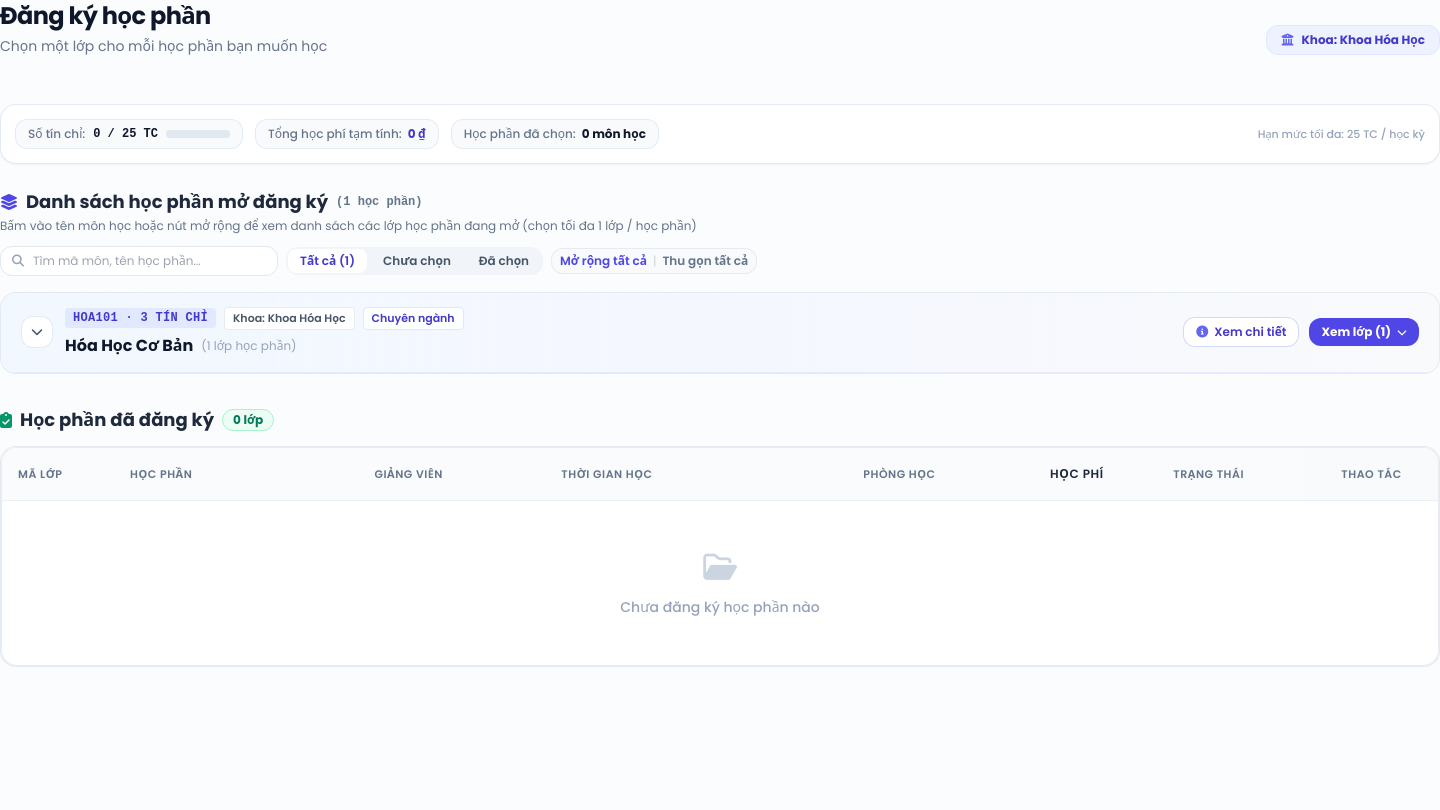
Test case: StudentCourseRegistration Course Details Modal & General Education Filtering & Compact UI › opens course details modal when clicking course detail button and displays teaching hours breakdown
The image size is (1440, 810).
# Click "Xem chi tiết"
Click the button "Xem chi tiết". click: (1241, 332)
box: [1183,317,1300,347]
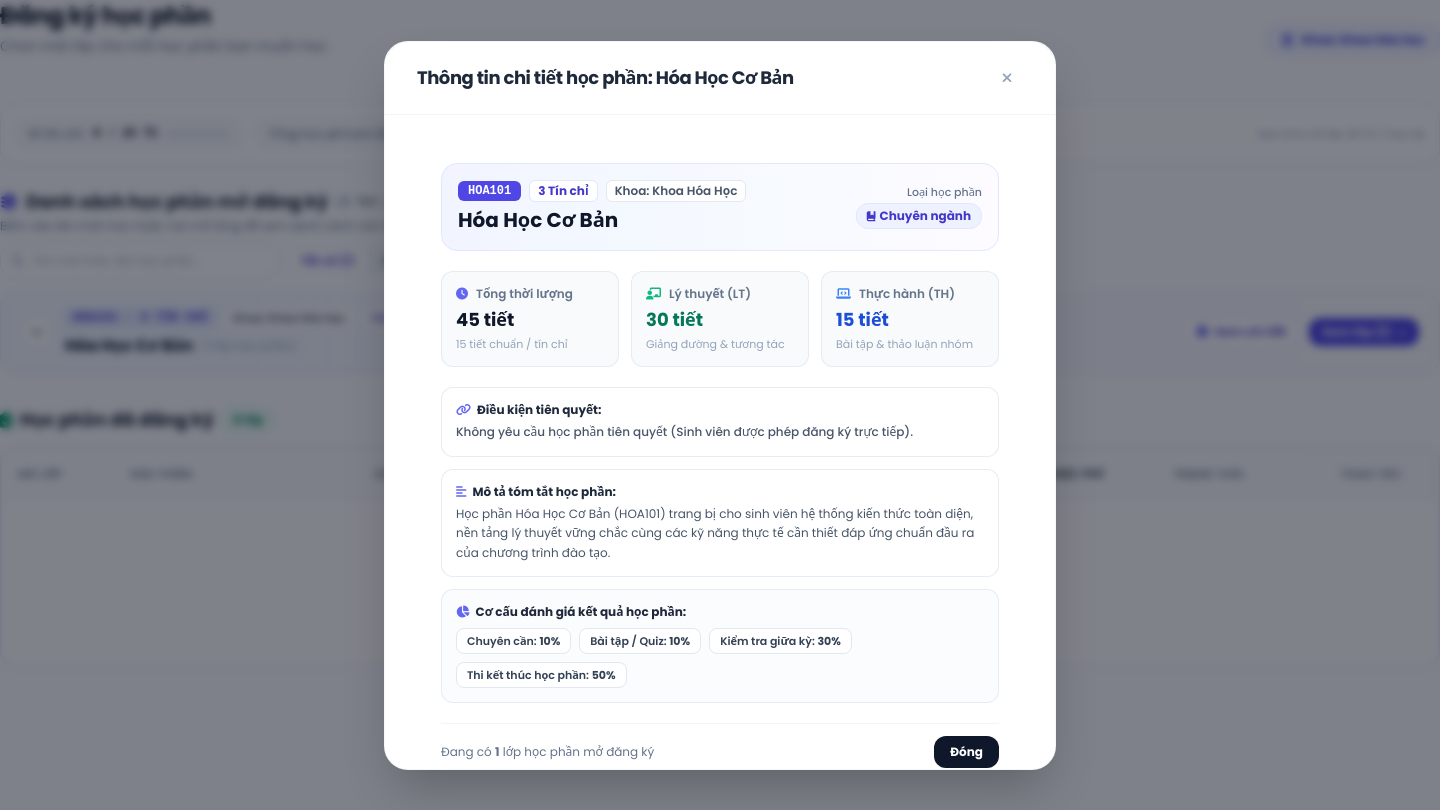
Expected: the heading "Thông tin chi tiết học phần: Hóa Học Cơ Bản" is shown, [417,64,794,92]
Expected: the text "45 tiết" is shown, [456,306,514,332]
Expected: the text "30 tiết" is shown, [646,306,703,332]
# Close modal
Click the button named "Đóng". click: (1007, 78)
box: [991,62,1023,94]
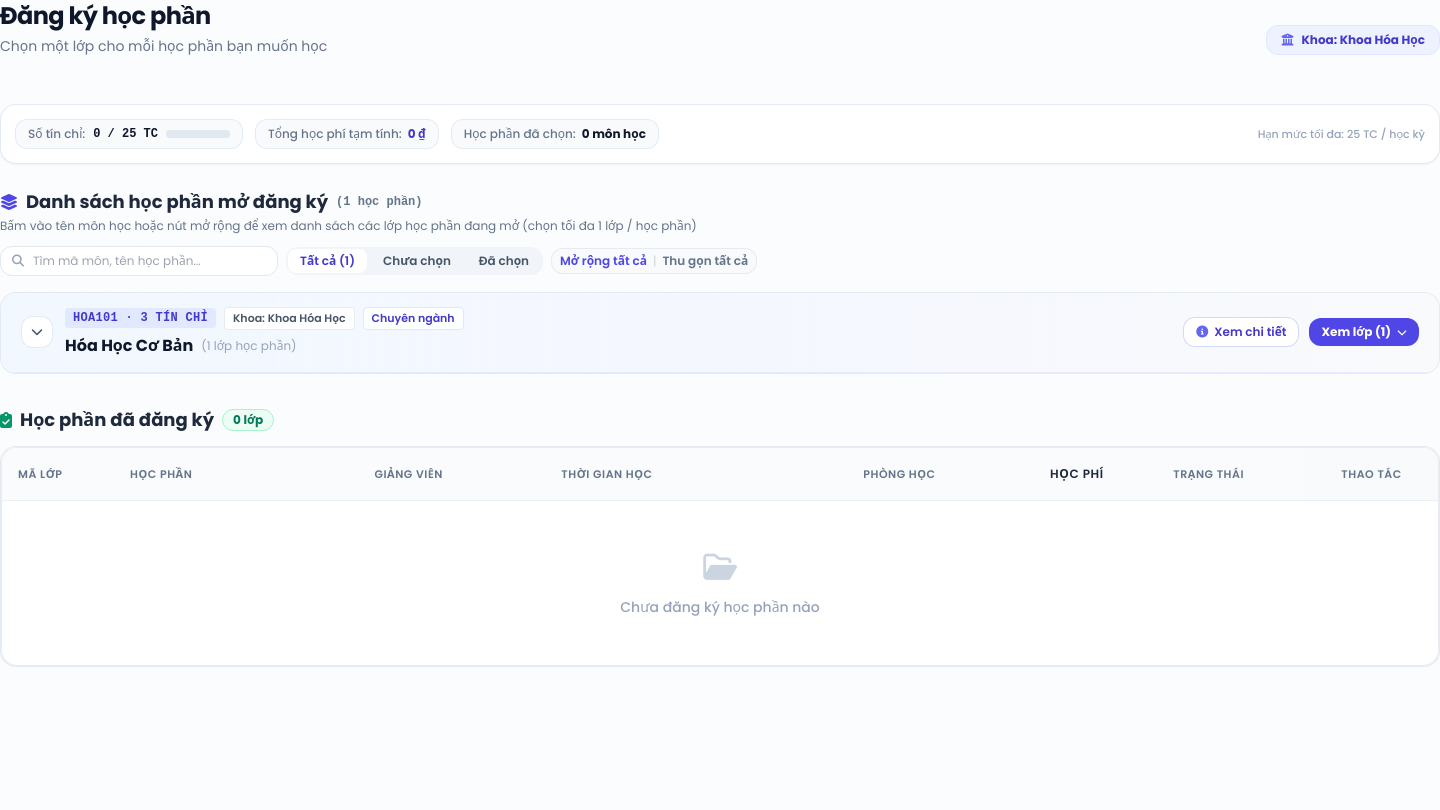
Expected: the heading "Thông tin chi tiết học phần: Hóa Học Cơ Bản" is gone
